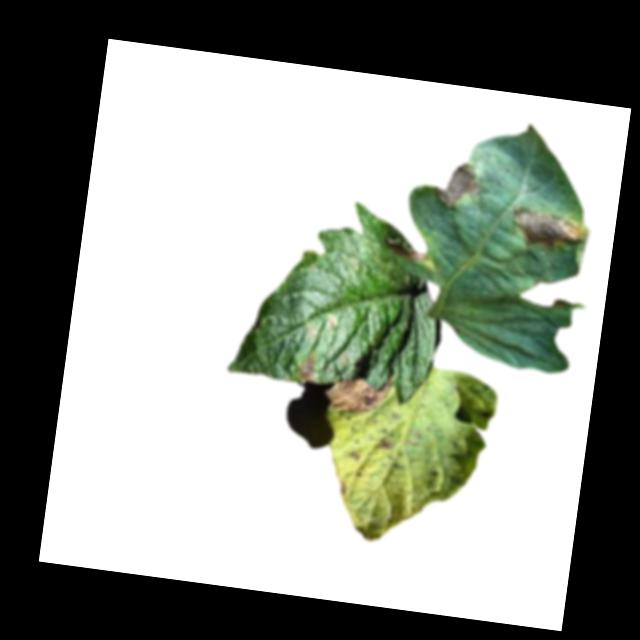Early_blight: (508, 203, 585, 257), (324, 372, 396, 418), (431, 160, 484, 215), (382, 235, 430, 262), (295, 351, 318, 382), (379, 440, 393, 450)
